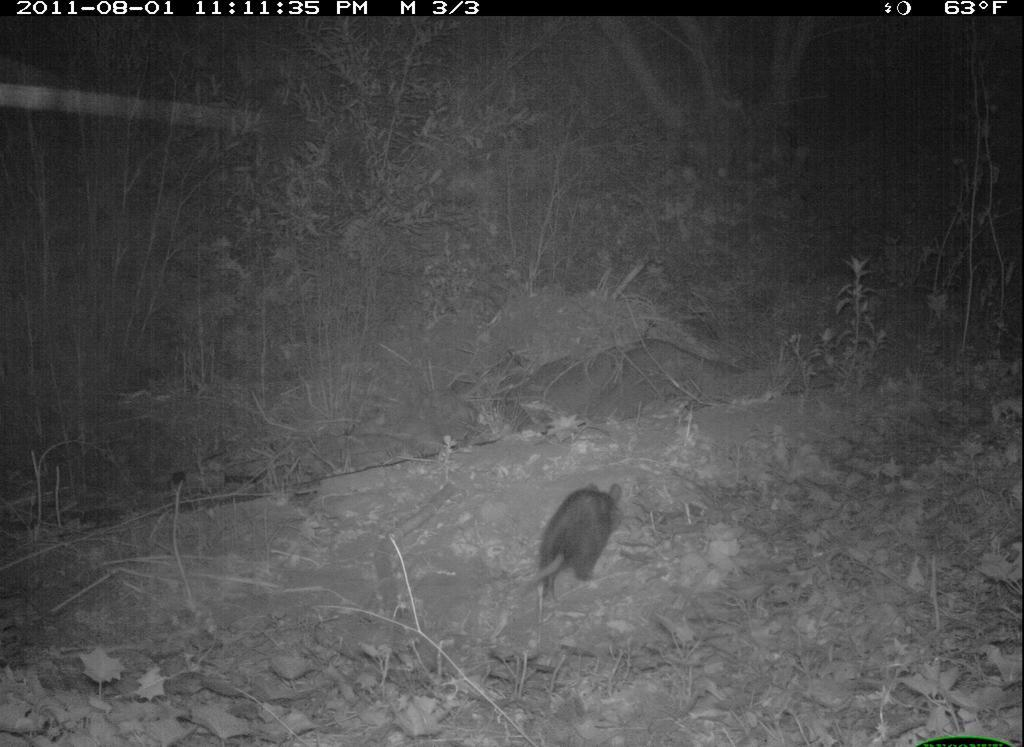opossum: (514, 481, 634, 612)
